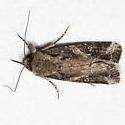army worm adult: (10, 11, 123, 109)
